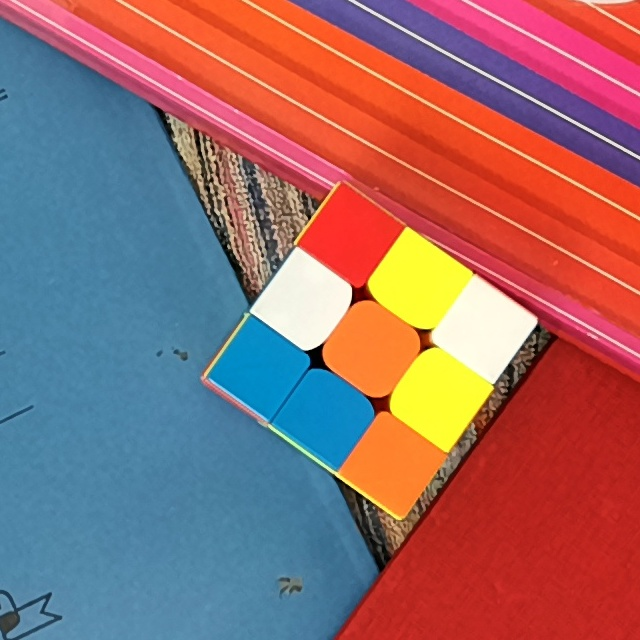tile: (342, 322, 403, 374), (366, 435, 421, 489), (412, 369, 467, 422), (387, 255, 444, 306), (278, 276, 333, 328), (322, 212, 378, 263), (233, 343, 285, 394), (300, 390, 352, 440), (458, 304, 510, 353)
